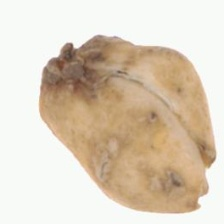L1: (41, 35, 105, 87), (194, 152, 220, 211)
L2: (37, 34, 217, 214)
